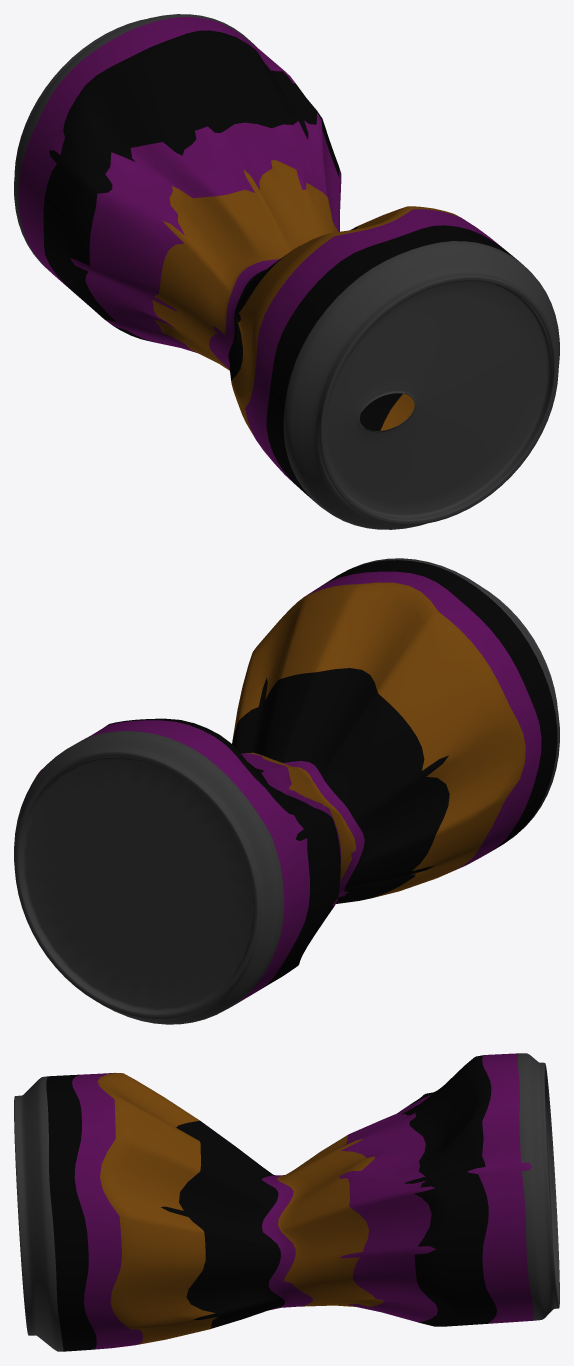
Rendered from мусор.fbx.
3 views of the same model, one above another, from view 1: azimuth 30°, elevation 25°; view 2: azimuth 150°, elevation 25°; view 3: azimuth 270°, elevation 25° (orthographic). The views are drawn at different scales.
Visible parts, largest first — view 1: Цилиндр; view 2: Цилиндр; view 3: Цилиндр.
Part boxes in pixels (x1,y1,x2,y2): Цилиндр: (14, 14, 559, 529); Цилиндр: (14, 558, 559, 1024); Цилиндр: (14, 1053, 559, 1351).
Bounding box in the file's own units: 170 × 185 × 336.
